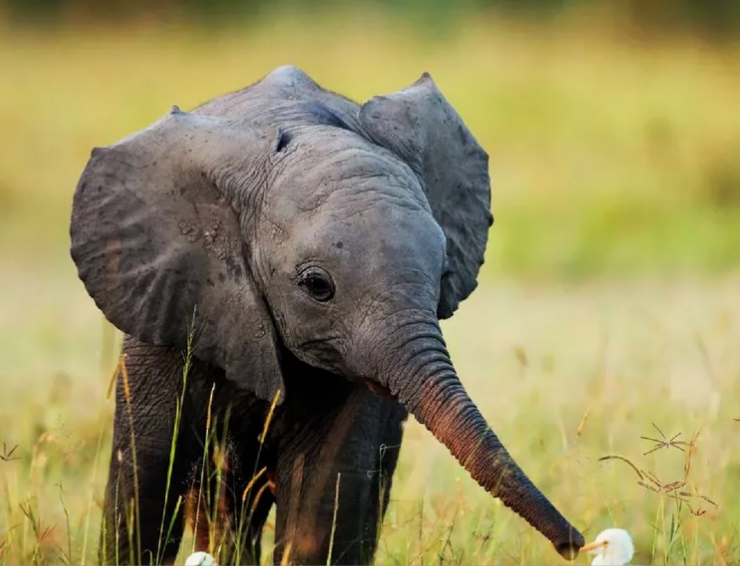elephantidae: (77, 63, 590, 564)
